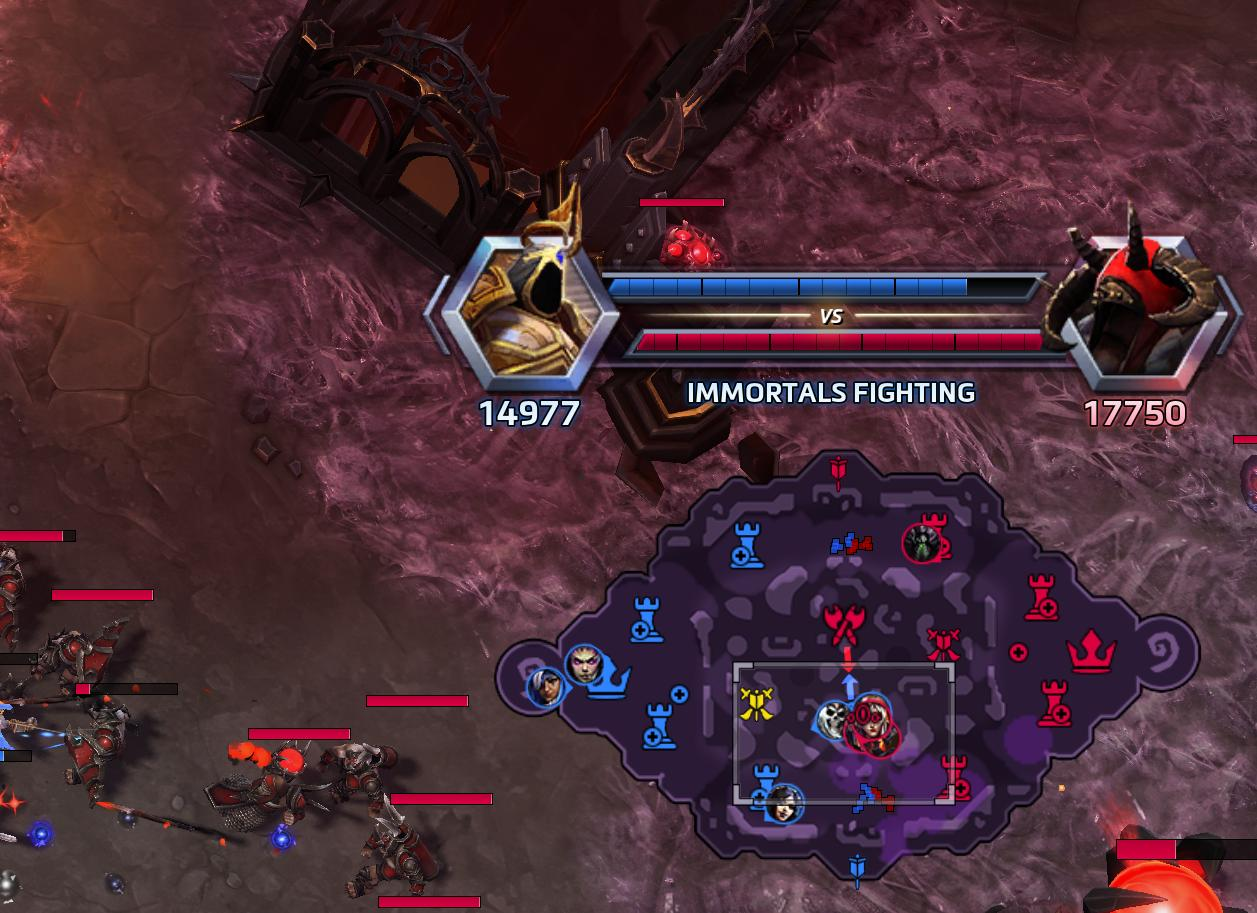blue player: (807, 700, 851, 747), (525, 664, 570, 709), (759, 786, 808, 827), (565, 643, 606, 685)
